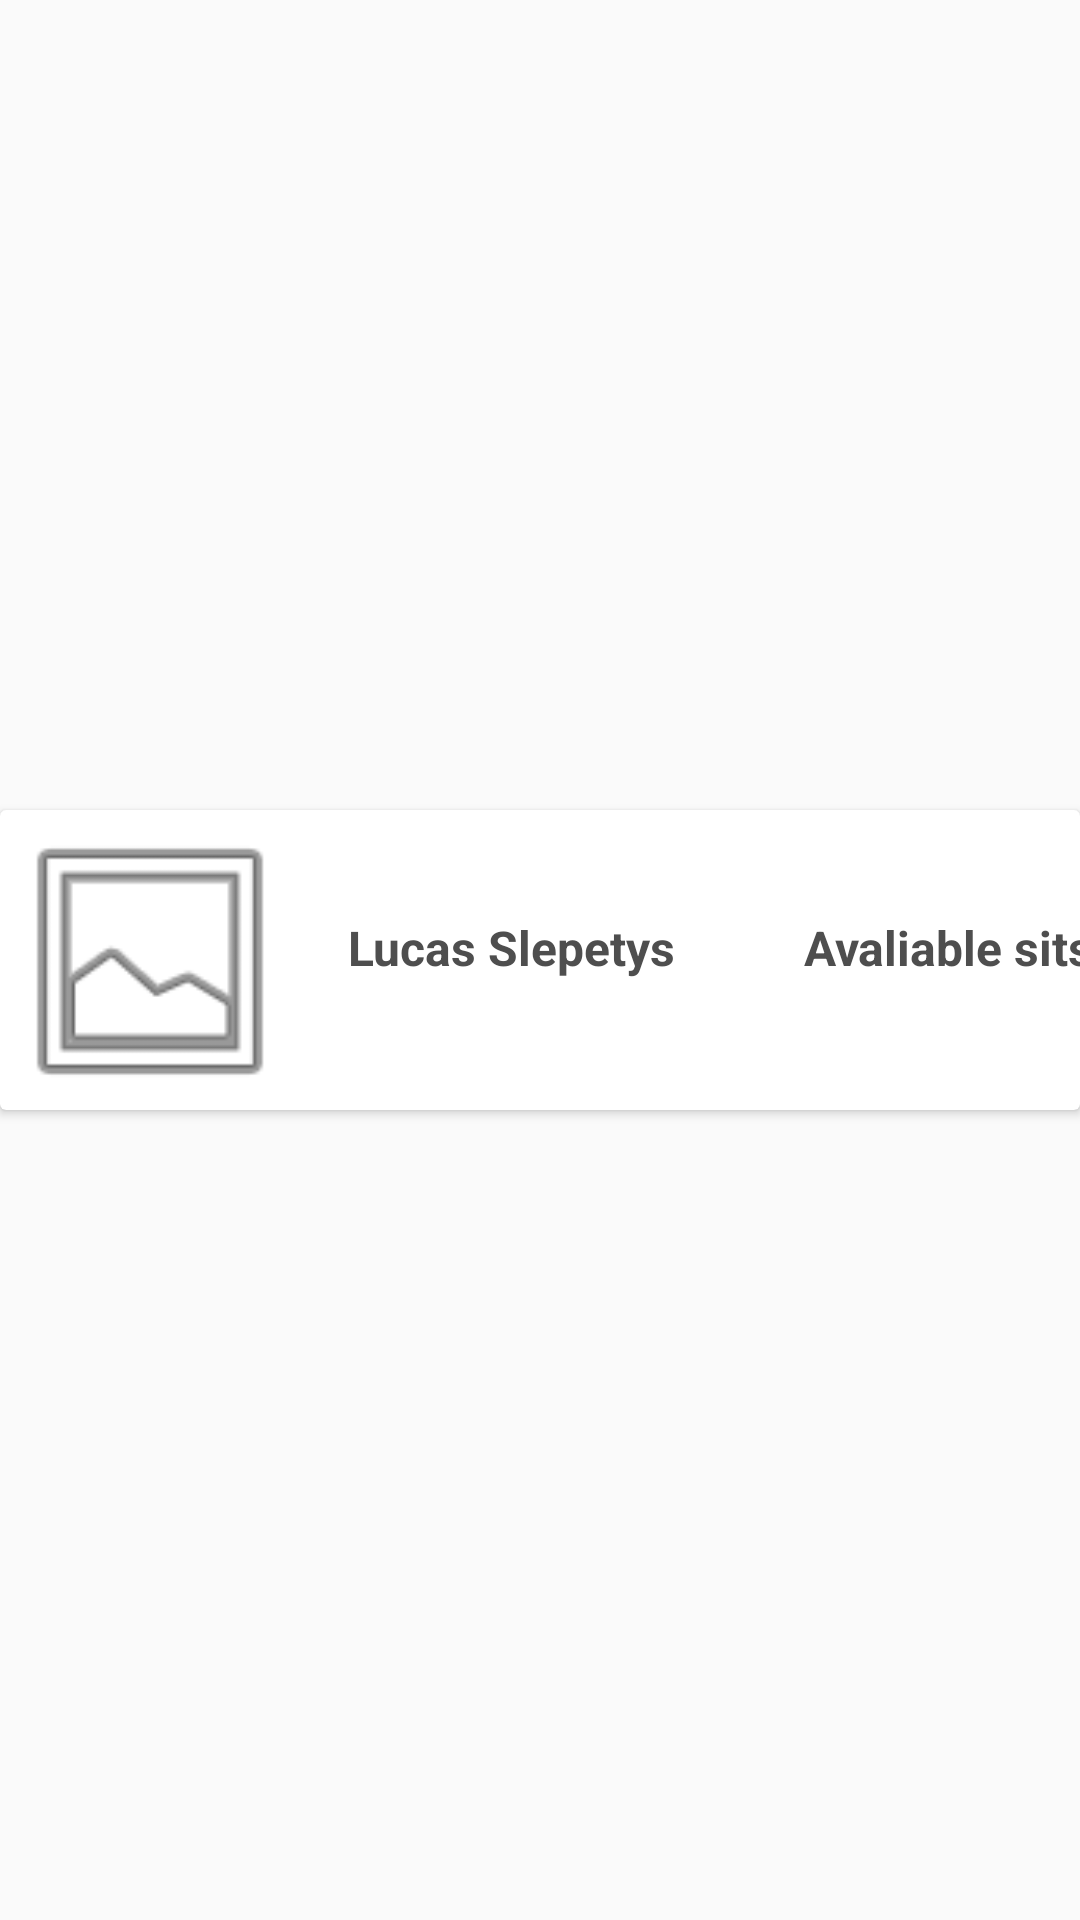

Icon bounding boxes for this 1080x1920 phone screenshot, format (x1, y1, x2, y2):
gallery: (37, 848, 263, 1075)
